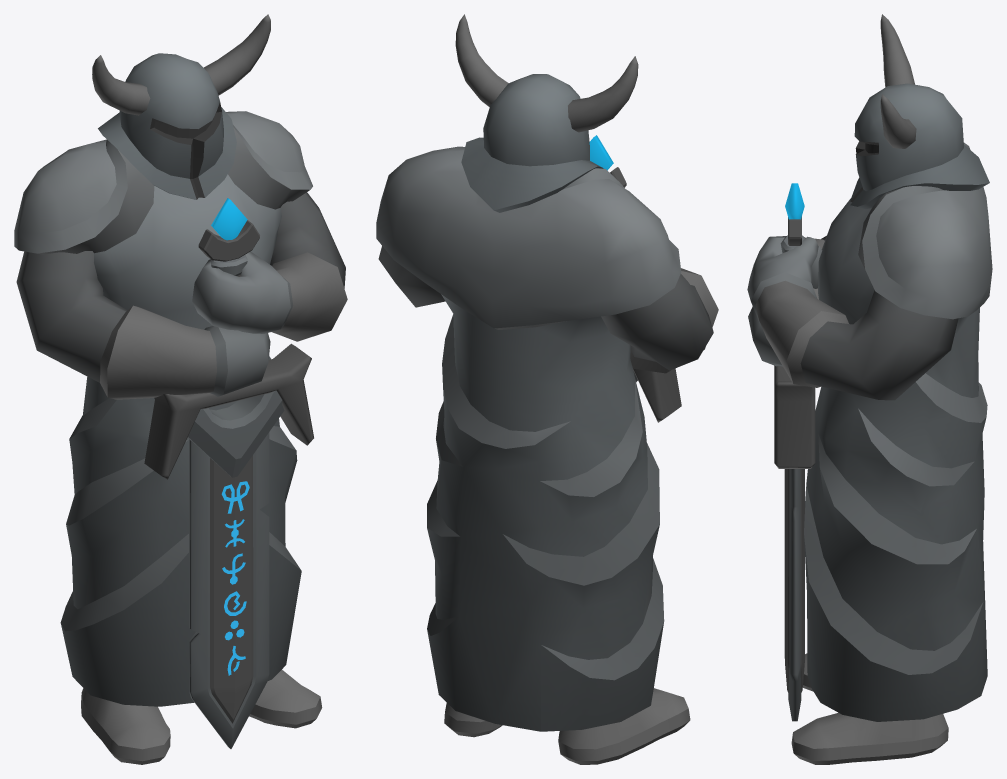
The model's file is statue_knight_001.glb.
3 views of the same model, side by side, from view 1: azimuth 30°, elevation 25°; view 2: azimuth 150°, elevation 25°; view 3: azimuth 270°, elevation 25° (orthographic). The views are drawn at different scales.
Visible parts, largest first — view 1: statue_knight_001; view 2: statue_knight_001; view 3: statue_knight_001.
Part boxes in pixels (bbox=[...]): statue_knight_001: bbox=[14, 14, 347, 764]; statue_knight_001: bbox=[376, 14, 718, 764]; statue_knight_001: bbox=[747, 14, 992, 764].
Size of the model in its own units: 4.66 by 10 by 3.33.
2 materials, 2 textured.
